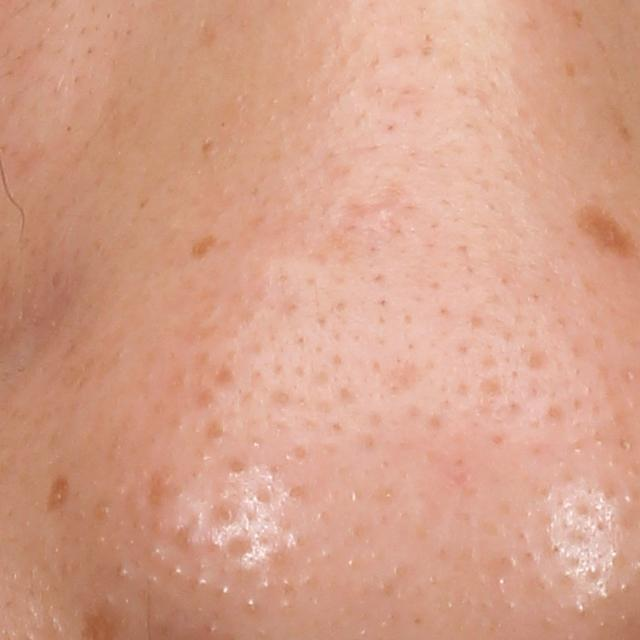melasma: (574, 199, 636, 263), (46, 467, 73, 514), (188, 231, 219, 269)
